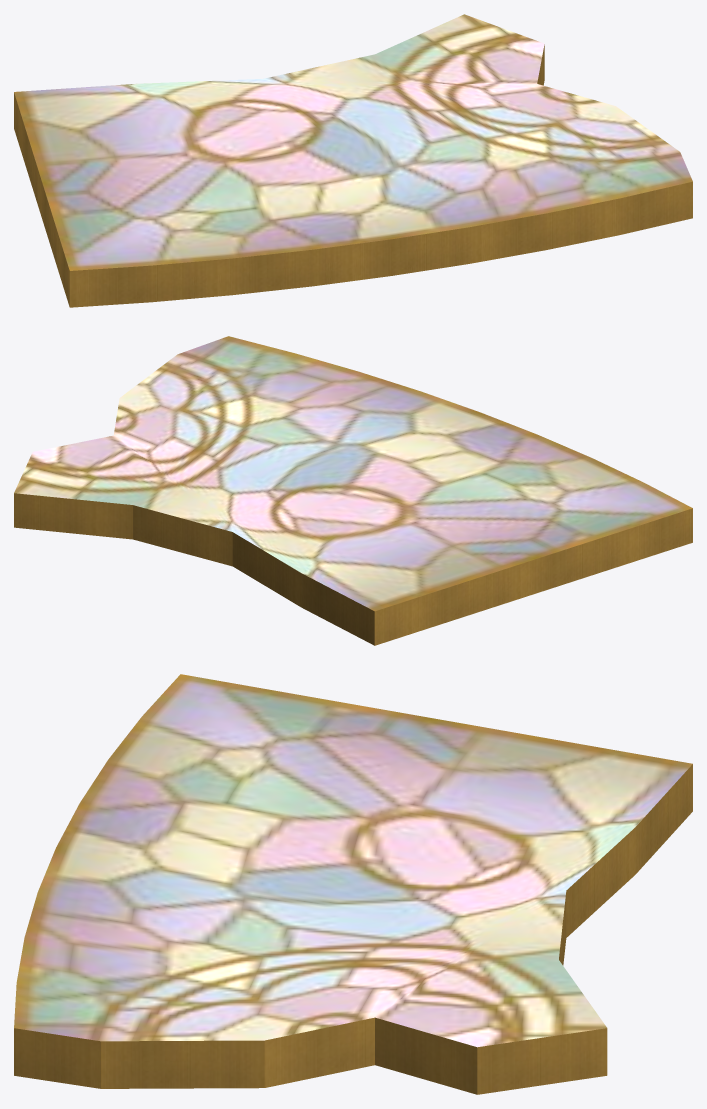
Rendered from lb_chunk_7_3.glb.
3 views of the same model, one above another, from view 1: azimuth 30°, elevation 25°; view 2: azimuth 150°, elevation 25°; view 3: azimuth 270°, elevation 25° (orthographic). The views are drawn at different scales.
Parts seen in each view (by area): view 1: lb_chunk_7_3; view 2: lb_chunk_7_3; view 3: lb_chunk_7_3.
Boxes of the visible parts, x1=… form: lb_chunk_7_3: x1=14, y1=14, x2=692, y2=307; lb_chunk_7_3: x1=14, y1=336, x2=692, y2=645; lb_chunk_7_3: x1=14, y1=674, x2=692, y2=1094.
Size of the model in its own units: 6.05 by 0.36 by 4.65.
2 materials, 2 textured.
